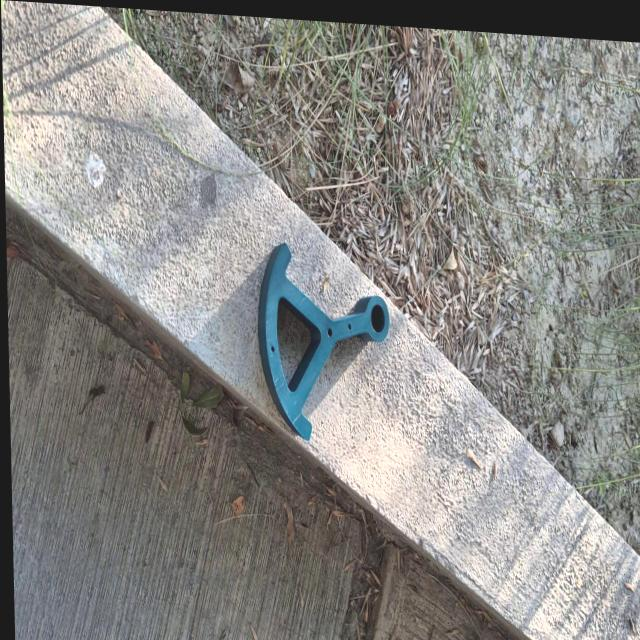haptic: (254, 240, 392, 448)
